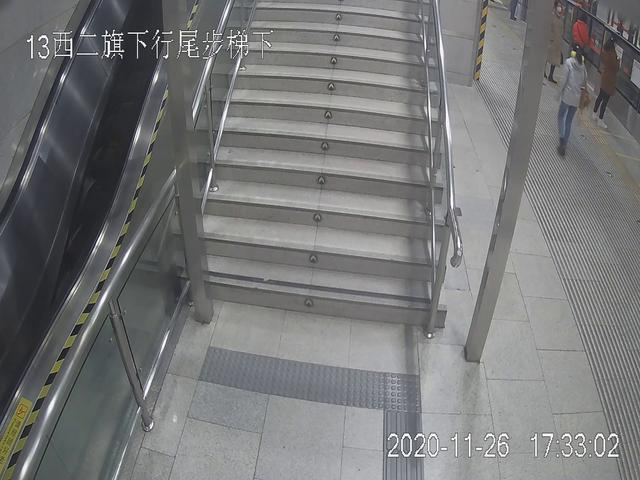person: (549, 41, 594, 158), (590, 35, 622, 133), (545, 1, 568, 88)
